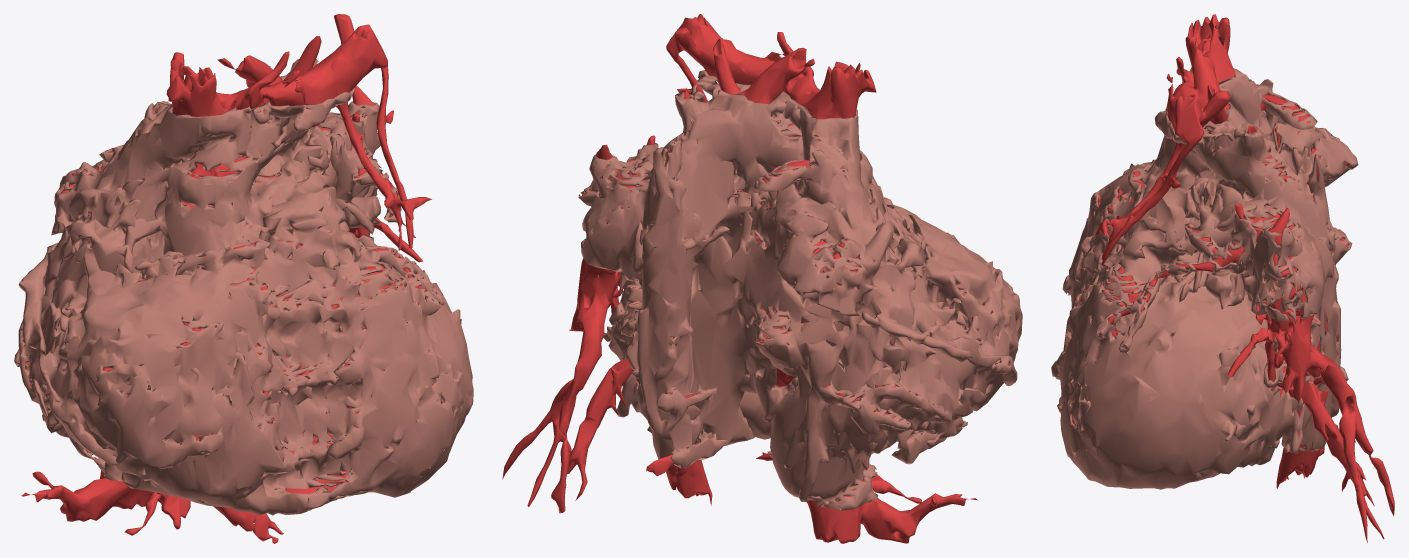
Rendered from tetralogy-of-fallot.glb.
3 views of the same model, side by side, from view 1: azimuth 30°, elevation 25°; view 2: azimuth 150°, elevation 25°; view 3: azimuth 270°, elevation 25° (orthographic). The views are drawn at different scales.
Parts seen in each view (by area): view 1: myocardium, blood-pool; view 2: myocardium, blood-pool; view 3: myocardium, blood-pool.
Part boxes in pixels (x1,y1,x2,y2): myocardium: (14,59,473,515); blood-pool: (19,14,456,543); myocardium: (578,70,1022,510); blood-pool: (502,14,1008,543); myocardium: (1051,67,1358,489); blood-pool: (1069,14,1394,542).
Size of the model in its own units: 0.1698 by 0.1747 by 0.1281.
